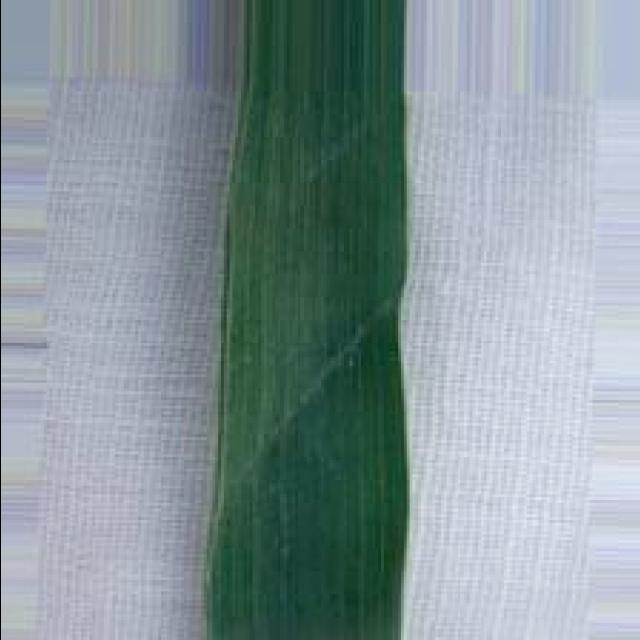Healthy: (207, 0, 413, 640)
